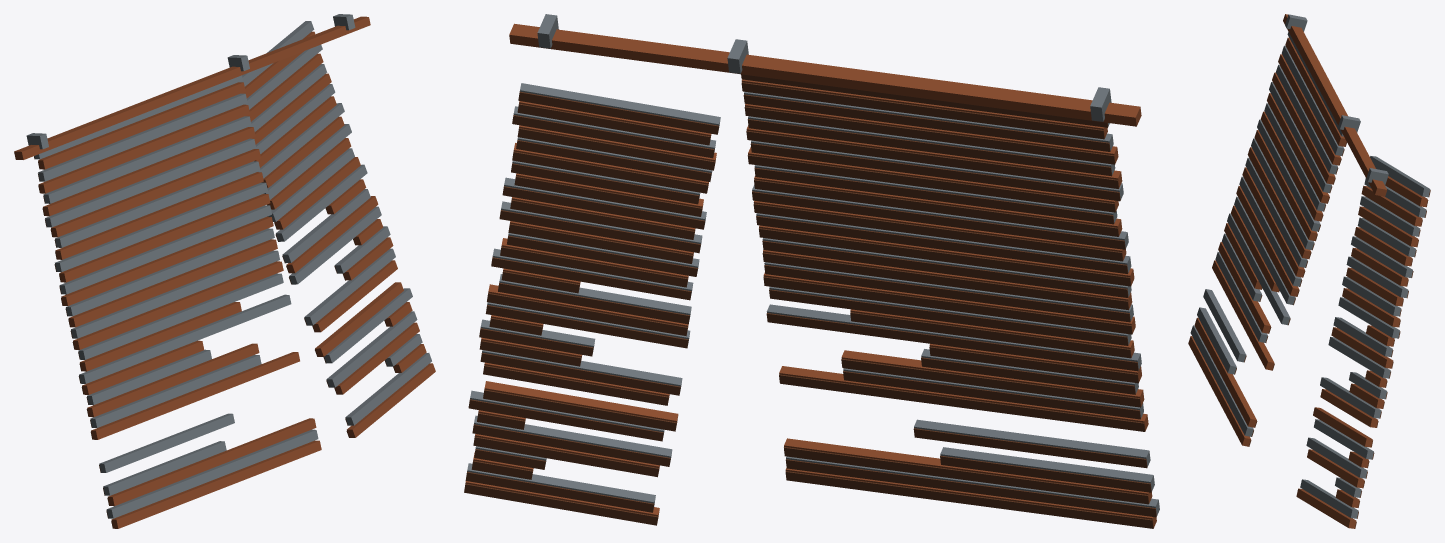
File: bay_door_torn.glb
3 views of the same model, side by side, from view 1: azimuth 30°, elevation 25°; view 2: azimuth 150°, elevation 25°; view 3: azimuth 270°, elevation 25° (orthographic). The views are drawn at different scales.
Parts seen in each view (by area): view 1: bay_door_torn; view 2: bay_door_torn; view 3: bay_door_torn.
Boxes of the visible parts, <box> form: bay_door_torn: <box>14,14,435,528</box>; bay_door_torn: <box>464,14,1159,528</box>; bay_door_torn: <box>1188,14,1430,528</box>.
Size of what is drawn, in the model's own units: 6.02 by 4.9 by 3.13.
3 materials, 3 textured.
